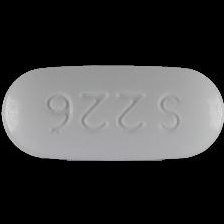45865-542: (0, 0, 224, 224)
